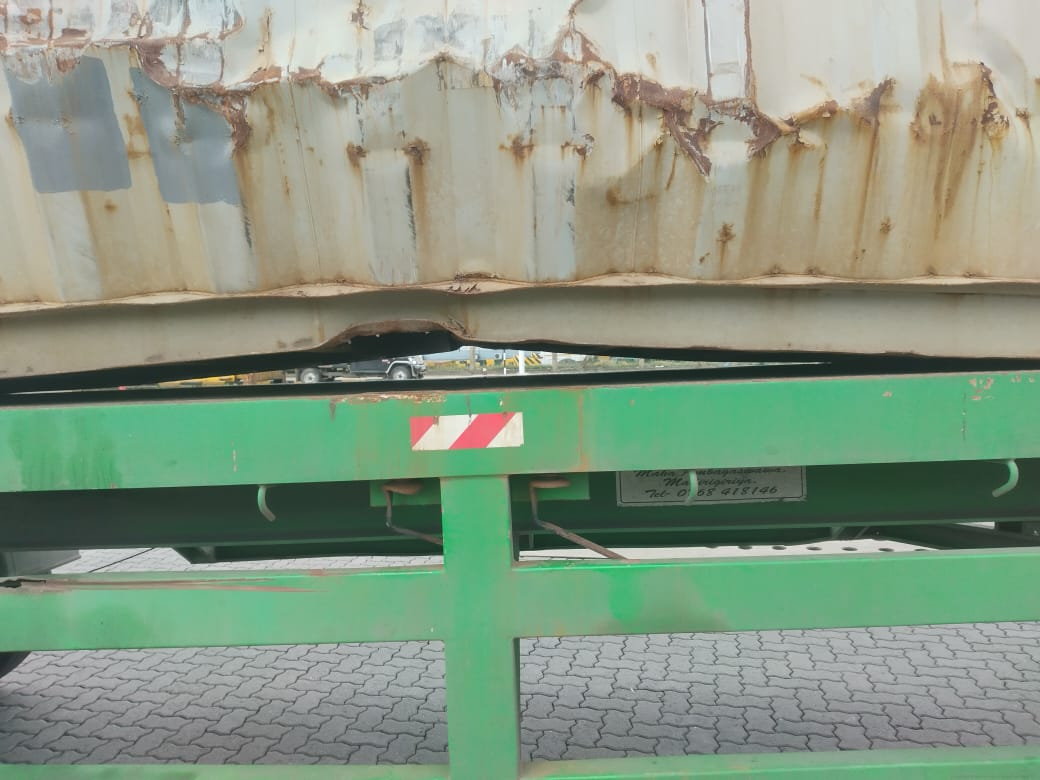bulged: (538, 50, 830, 177), (135, 40, 456, 124)
dented: (251, 146, 554, 343)
rust: (923, 53, 1027, 173)
